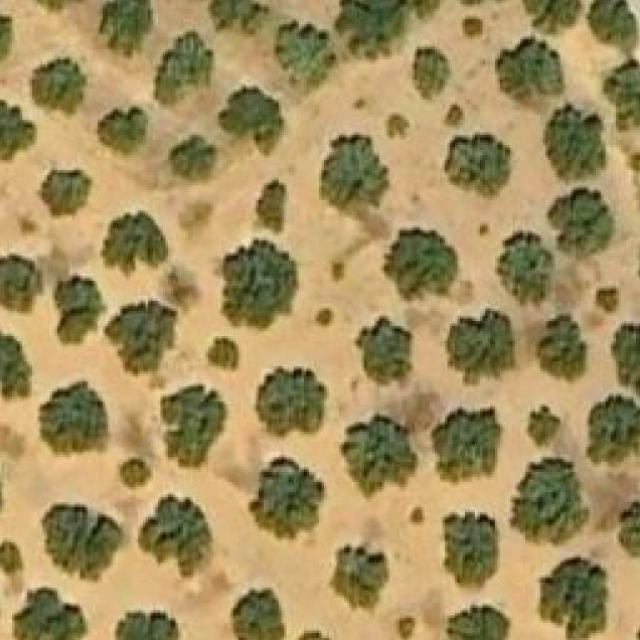Tree: (510, 460, 589, 545), (220, 241, 296, 329), (341, 417, 417, 500), (335, 0, 440, 59), (42, 505, 123, 579), (251, 457, 324, 537), (540, 557, 609, 640), (381, 228, 457, 302), (140, 497, 210, 576), (102, 301, 175, 376), (440, 509, 500, 598), (162, 384, 225, 468), (319, 135, 389, 210), (432, 407, 502, 482), (545, 185, 614, 261), (39, 379, 108, 455), (256, 366, 326, 437), (215, 88, 286, 158), (495, 230, 556, 309), (542, 105, 606, 180), (495, 36, 564, 105), (276, 19, 336, 95), (447, 311, 512, 381), (445, 135, 513, 200), (155, 32, 213, 106), (0, 290, 32, 424), (329, 542, 389, 611), (102, 210, 165, 271), (586, 396, 640, 467), (356, 313, 412, 381), (54, 276, 108, 344), (16, 589, 86, 640), (537, 316, 588, 384), (98, 0, 154, 59), (29, 59, 85, 115), (37, 168, 93, 221), (98, 100, 148, 158), (233, 587, 286, 640), (603, 59, 640, 130), (0, 255, 43, 316), (250, 177, 288, 236), (170, 135, 218, 180), (0, 100, 35, 160), (447, 605, 507, 640), (609, 323, 640, 390), (522, 0, 581, 34), (412, 47, 449, 101), (589, 0, 637, 41), (118, 610, 178, 640), (211, 0, 267, 31), (528, 406, 560, 447), (204, 339, 242, 372), (619, 502, 640, 558), (120, 459, 150, 487), (384, 112, 410, 140), (0, 546, 22, 576), (445, 104, 463, 128), (462, 16, 485, 34), (598, 291, 618, 309), (396, 618, 412, 638)
